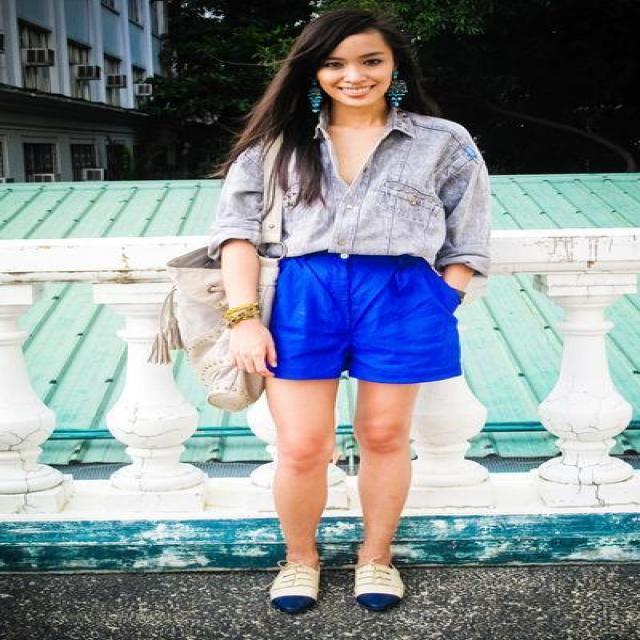bag: (150, 245, 277, 411)
shirt: (197, 103, 494, 271)
shoe: (271, 564, 404, 614)
skirt: (266, 248, 464, 383)
